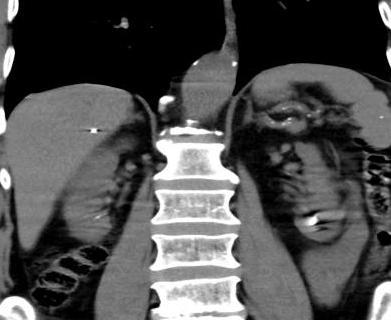Tas_Var: (302, 214, 322, 228), (91, 214, 104, 222)
